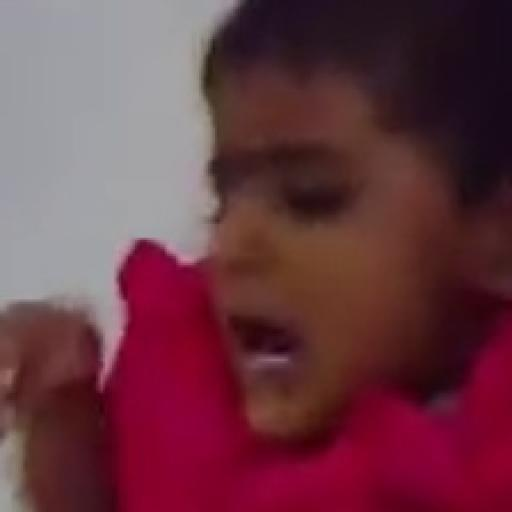Autism: (148, 25, 512, 445)
